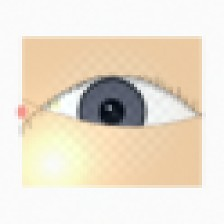pinguecula_lesion: (39, 92, 69, 116)
